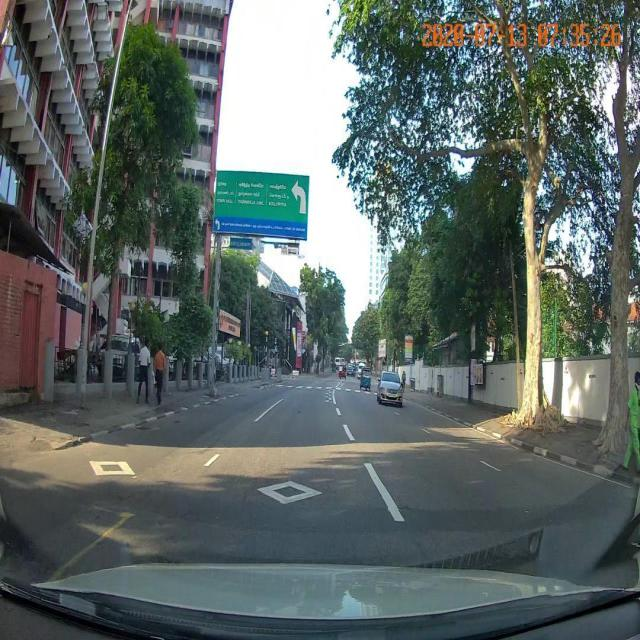Liniya 1: (42, 509, 137, 582), (363, 461, 407, 522), (254, 397, 285, 422), (479, 459, 503, 474), (203, 452, 224, 469), (341, 424, 357, 442), (332, 389, 339, 406), (335, 407, 343, 417)
Romb: (259, 480, 321, 505), (88, 455, 136, 476)
